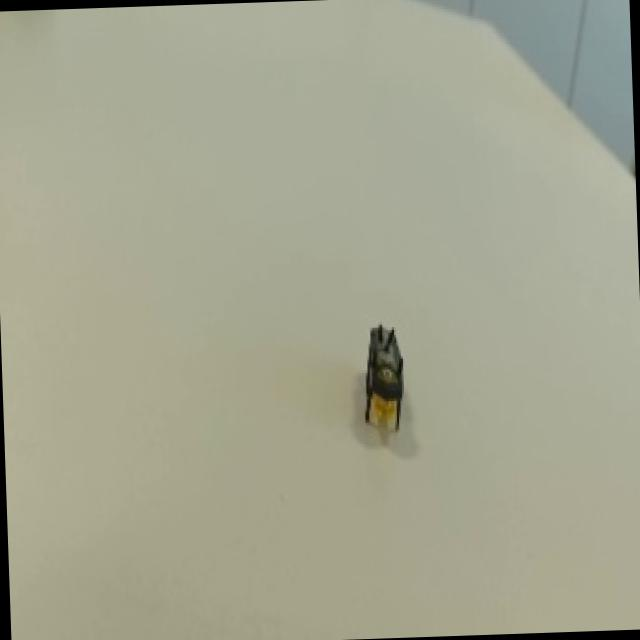6_NanoBug_GrisOscuro: (312, 303, 426, 449)
